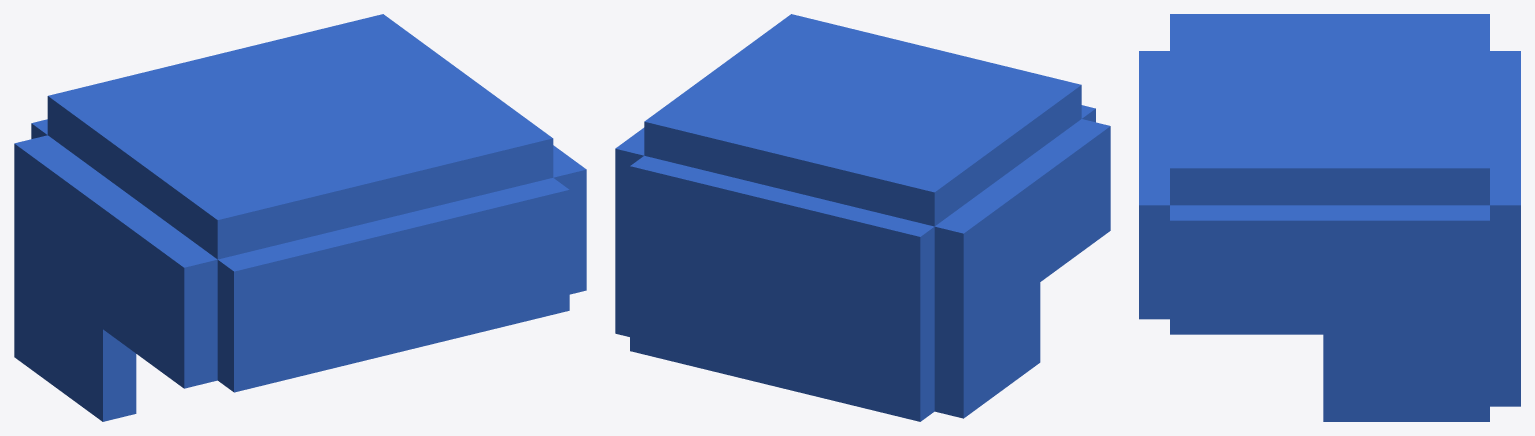
File: Helmet.fbx
3 views of the same model, side by side, from view 1: azimuth 30°, elevation 25°; view 2: azimuth 150°, elevation 25°; view 3: azimuth 270°, elevation 25° (orthographic). The views are drawn at different scales.
Parts seen in each view (by area): view 1: Helmet; view 2: Helmet; view 3: Helmet.
Boxes of the visible parts, x1,y1,x2,y2 form: Helmet: (14,14,586,421); Helmet: (615,14,1110,421); Helmet: (1139,14,1520,421).
Bounding box in the file's own units: 44.1 × 26.5 × 38.48.
